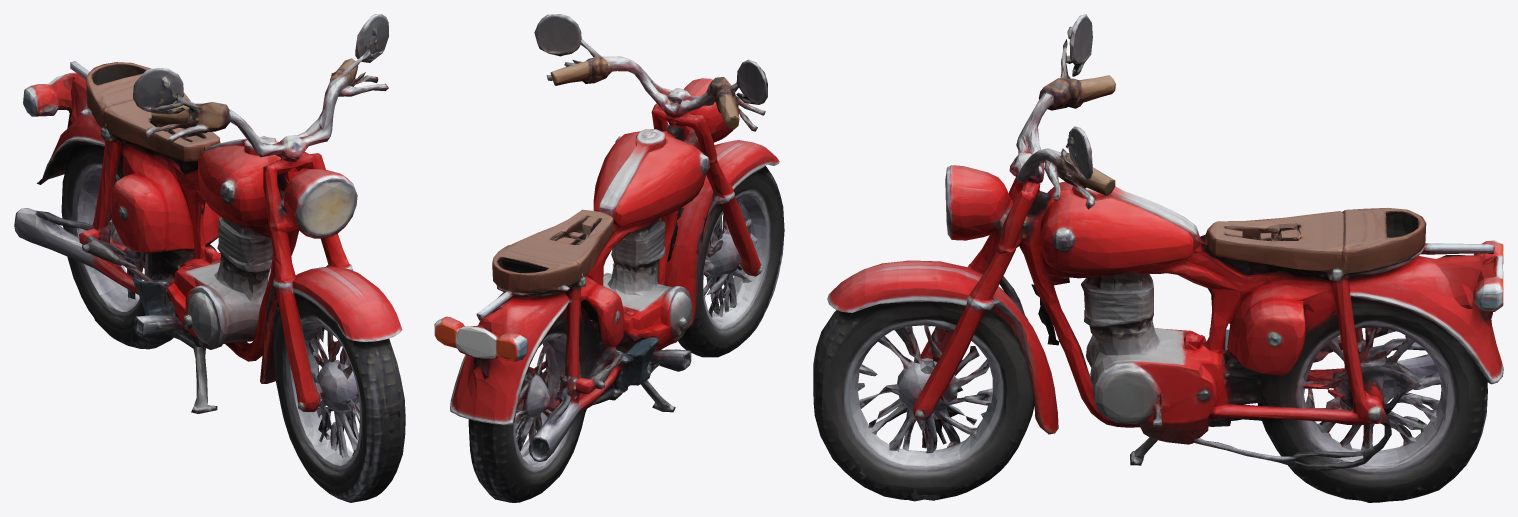
Rendered from motorbike_trellis.glb.
The picture shows the model from 3 angles, left to right: view 1: azimuth 30°, elevation 25°; view 2: azimuth 150°, elevation 25°; view 3: azimuth 270°, elevation 25°; orthographic projection. The views are drawn at different scales.
Bounding box in the file's own units: 0.4568 × 0.6826 × 1.
1 material, 1 textured.
